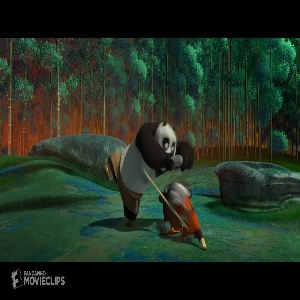po: (100, 119, 196, 229)
shifu: (159, 180, 210, 251)
